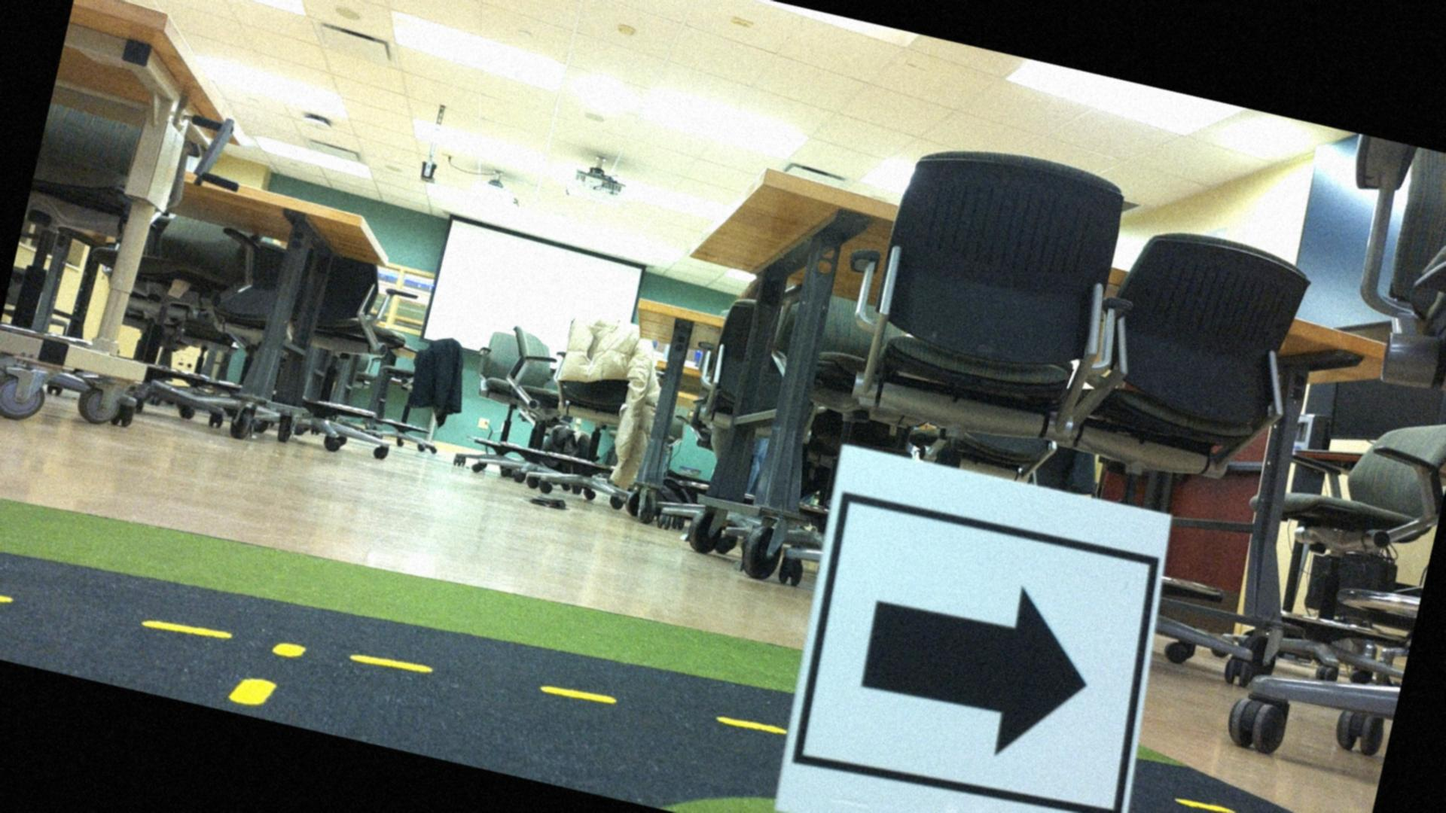turnleft: (789, 456, 1162, 812)
yellowline: (0, 537, 783, 781)
